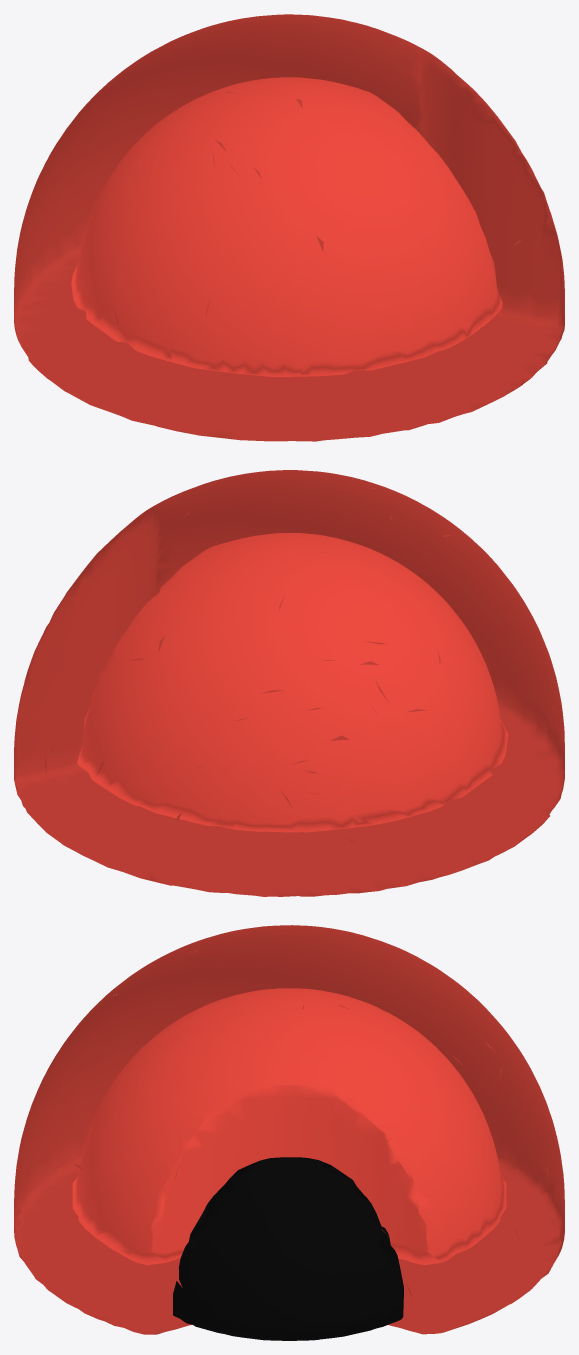
The model's file is ladybug.glb.
3 renders of one model, top to bottom at view 1: azimuth 30°, elevation 25°; view 2: azimuth 150°, elevation 25°; view 3: azimuth 270°, elevation 25°, orthographic.
Visible parts, largest first — view 1: Sphere.002; view 2: Sphere.002; view 3: Sphere.002.
Boxes of the visible parts, box(x1,y1,x2,y2) form: Sphere.002: box(14, 14, 564, 441); Sphere.002: box(14, 470, 564, 896); Sphere.002: box(14, 925, 564, 1340).
Size of the model in its own units: 4.6 by 2.65 by 4.57.
1 material, 1 textured.
